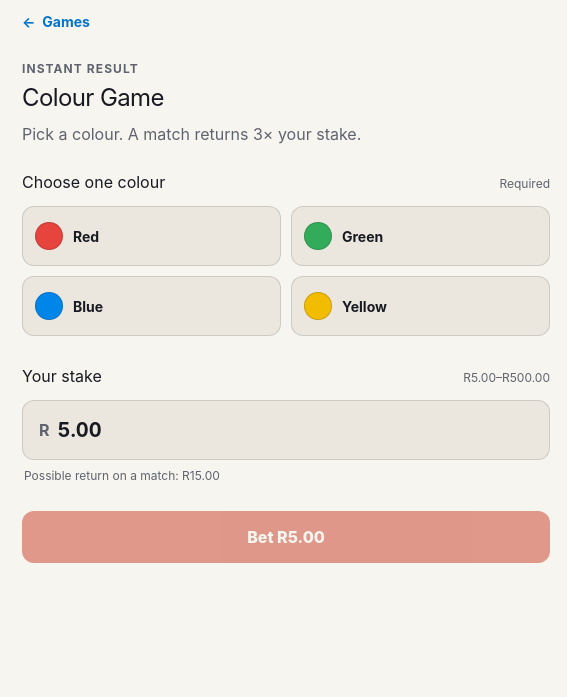
Test case: ColorGame › reveals only the result returned by the server
The width and height of the screenshot is (567, 697).
Click the button "Red".
click(152, 236)  # box x1=22 y1=206 x2=281 y2=266
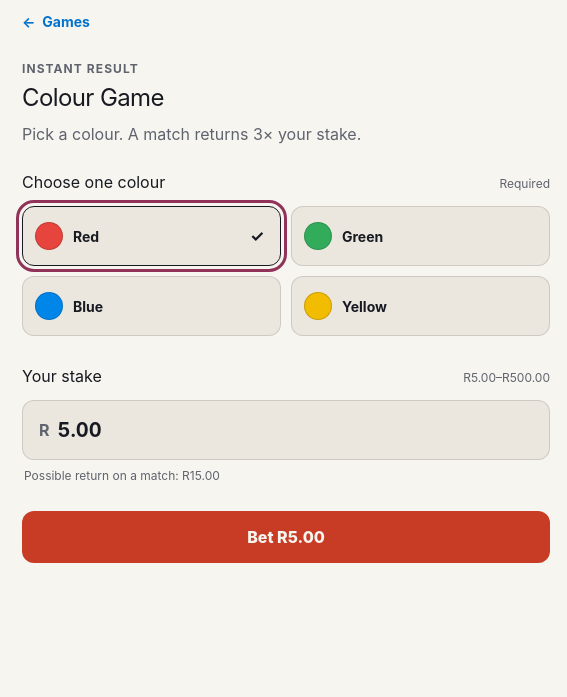
Click the button "Bet R5.00".
click(286, 537)  # box x1=22 y1=511 x2=550 y2=563
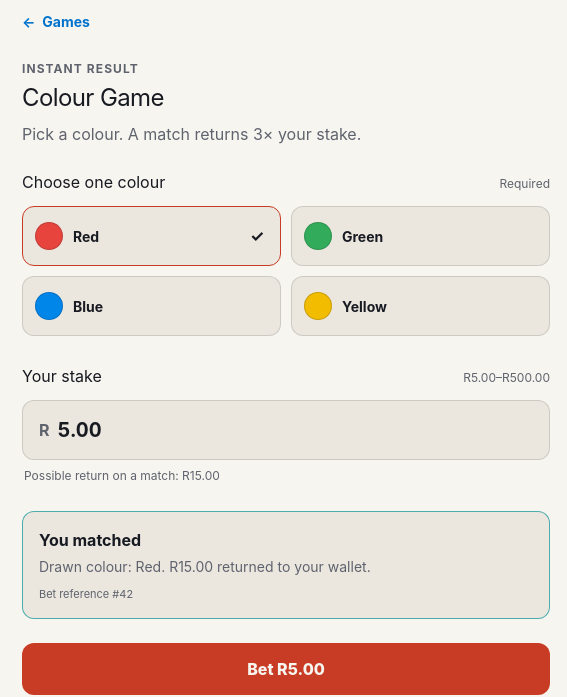
Now the text "You matched" is shown, box x1=39 y1=530 x2=141 y2=550
Now the text "Bet reference #42" is shown, box x1=39 y1=587 x2=134 y2=601
